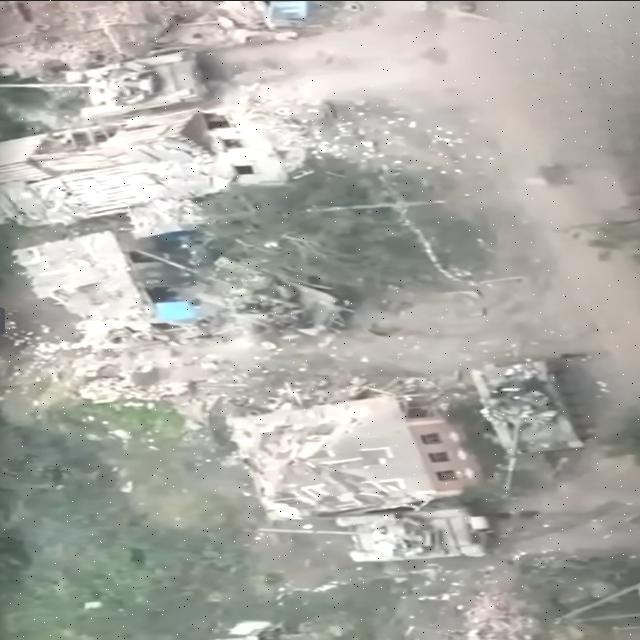MBT: (134, 248, 366, 338), (467, 344, 599, 492), (1, 50, 225, 120), (256, 502, 500, 562)
